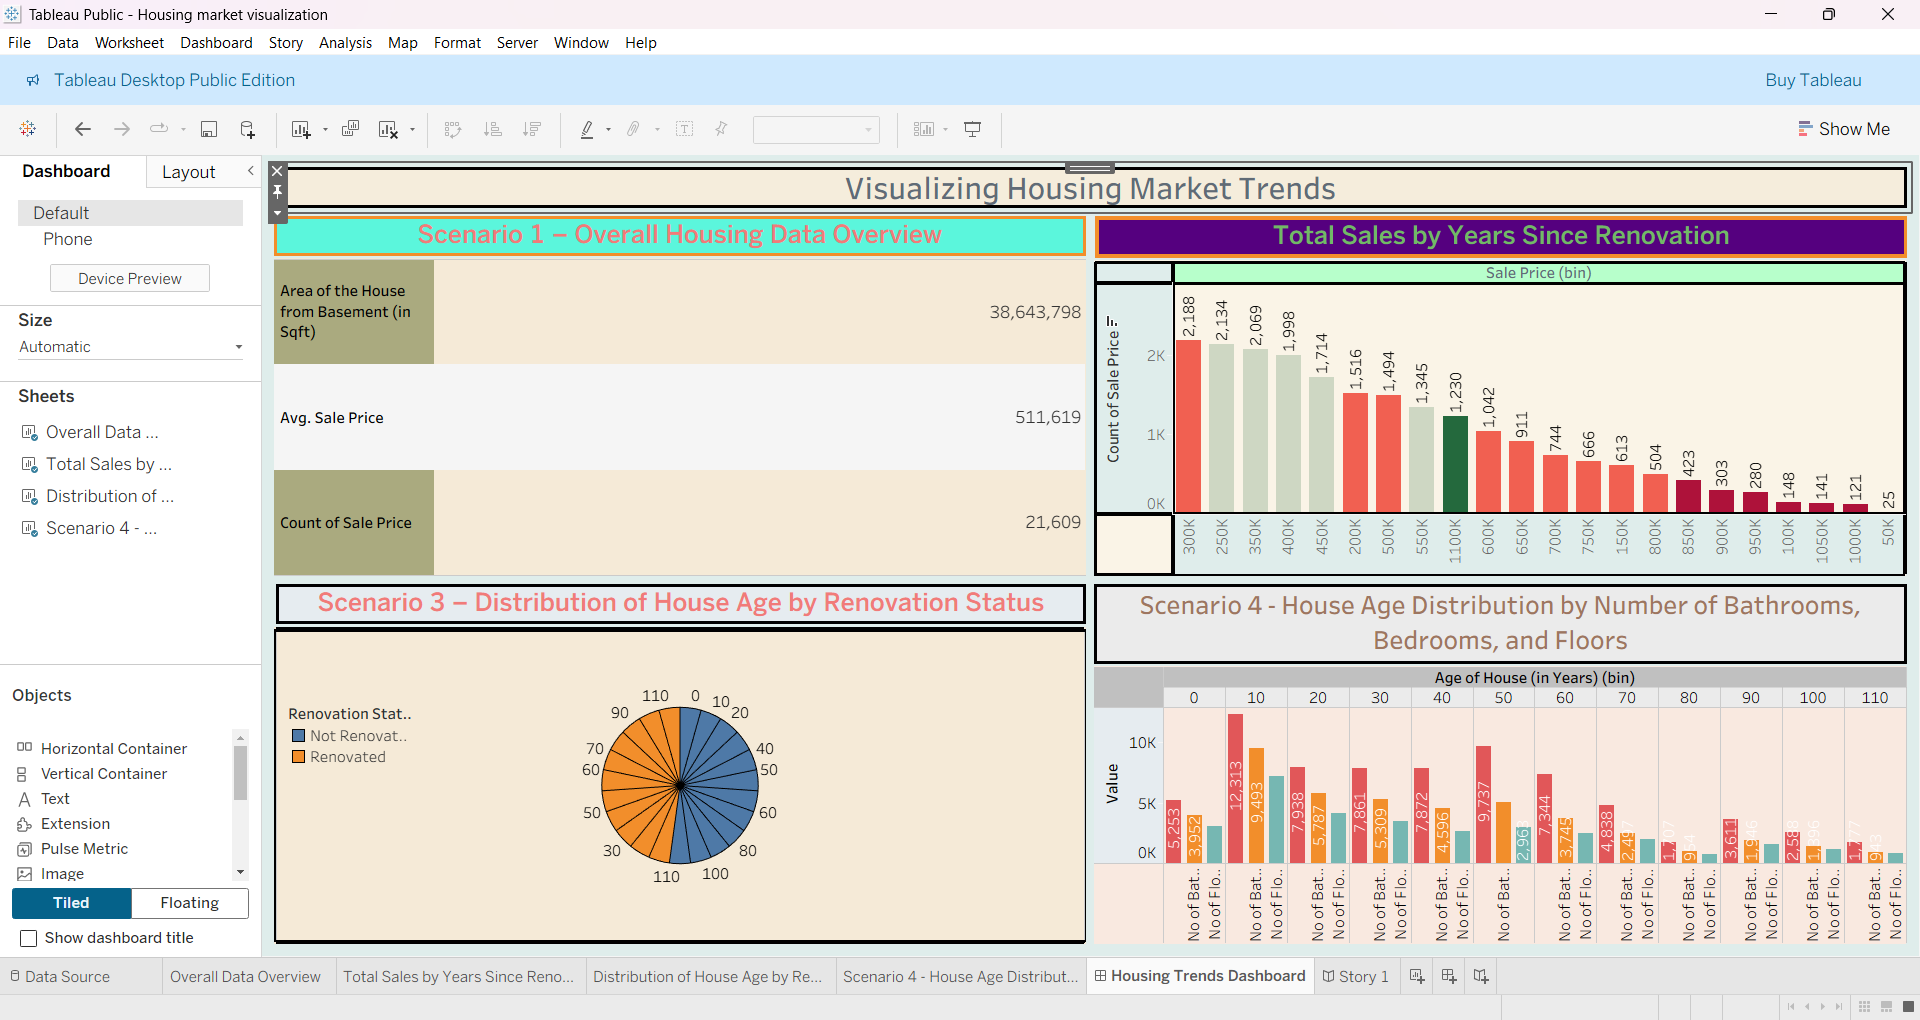

The page's visual inventory and layout, read from the dashboard file:
{"tool":"tableau","page":{"name":"Housing Trends Dashboard","canvas":[1000,1000],"units":"permille","ordinal":0},"visuals":[{"type":"title","box":[4.8,10,990.3,61.2]},{"type":"worksheet","title":"Overall Data Overview","mark":"Automatic","box":[4.8,71.2,495.2,459.4]},{"type":"worksheet","title":"Total Sales by Years Since Renovation","mark":"Automatic","rows":["Sale_Price"],"cols":["Sale Price (bin)"],"box":[500,71.2,495.2,459.4]},{"type":"worksheet","title":"Distribution of House Age by Renovation Status","mark":"Pie","box":[4.8,530.6,495.2,459.4]},{"type":"worksheet","title":"Scenario 4 - House Age Distribution by Number of Bathrooms, Bedrooms, and Floors","mark":"Automatic","cols":["Age of House (in Years) (bin)"],"box":[500,530.6,495.2,459.4]},{"type":"legend","title":"Distribution of House Age by Renovation Status","param":"[federated.096sr49026v9a61h58khf1ew2vpw].[none:Calculation_1078612134975344640:n","box":[13,679.4,83.1,89.9]}]}

Visuals, with their boxes on the dashboard's canvas, which has no fixed pixel size, in thousandths of its width and height (x1, y1, x2, y2). These are canvas units, not pixel positions in the 1920x1020 screenshot, which may show the page scaled, cropped or inside an application window:
title: (x1=5, y1=10, x2=995, y2=71)
"Overall Data Overview" worksheet: (x1=5, y1=71, x2=500, y2=531)
"Total Sales by Years Since Renovation" worksheet: (x1=500, y1=71, x2=995, y2=531)
"Distribution of House Age by Renovation Status" worksheet (Pie marks): (x1=5, y1=531, x2=500, y2=990)
"Scenario 4 - House Age Distribution by Number of Bathrooms, Bedrooms, and Floors" worksheet: (x1=500, y1=531, x2=995, y2=990)
"Distribution of House Age by Renovation Status" legend: (x1=13, y1=679, x2=96, y2=769)
